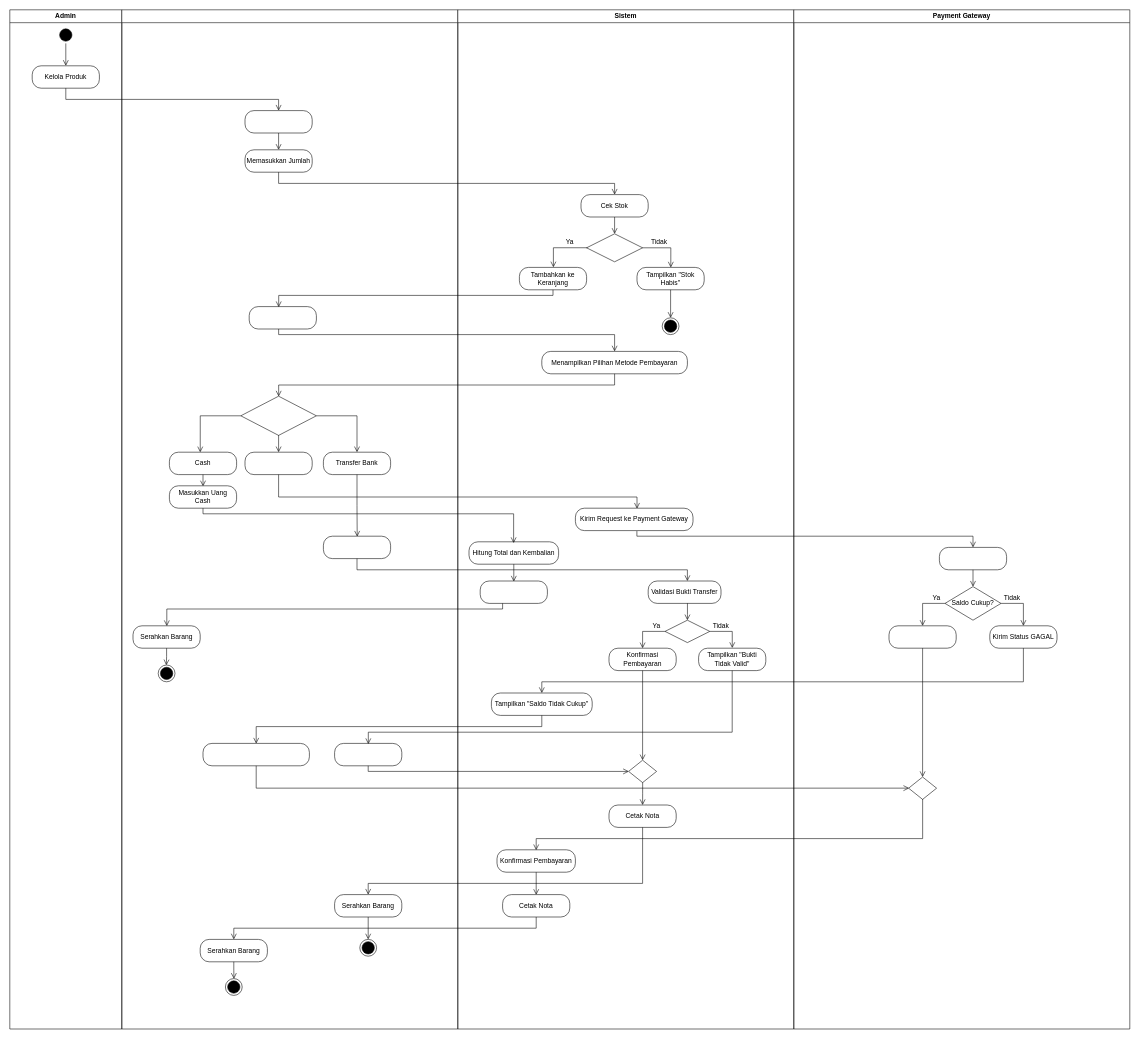
Image size: 1140x1039. Some labels were removed from this diagram. The box of each missing label's shape, as (x1, y1, x2, y2) in pixels:
E-Wallet: (244, 452, 312, 475)
Kasir: (121, 9, 458, 1029)
Kirim Status BERHASIL: (888, 625, 956, 648)
Klik "Bayar": (249, 306, 316, 329)
Memilih Produk: (244, 110, 312, 133)
Mencetak Nota: (480, 580, 547, 603)
Pilih Metode Pembayaran: (240, 396, 316, 435)
Stok Cukup?: (586, 233, 643, 262)
Ulangi Pilih Metode Pembayaran: (202, 743, 309, 766)
Upload Bukti Transfer: (323, 536, 391, 559)
Upload Ulang Bukti: (334, 743, 402, 766)
Valid?: (664, 620, 710, 643)
Verifikasi Saldo: (939, 547, 1007, 570)
